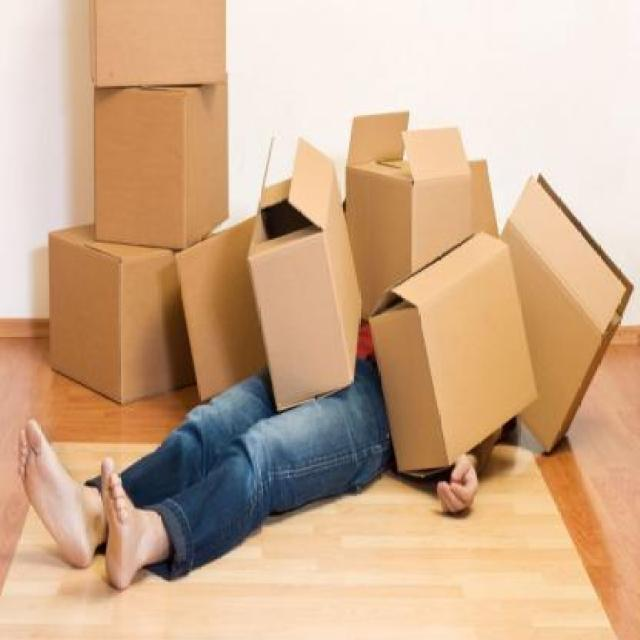box: (365, 223, 553, 516), (492, 145, 633, 482), (232, 117, 356, 436), (346, 102, 472, 357), (74, 85, 240, 263), (46, 224, 192, 413), (167, 196, 270, 389), (86, 0, 237, 87)
